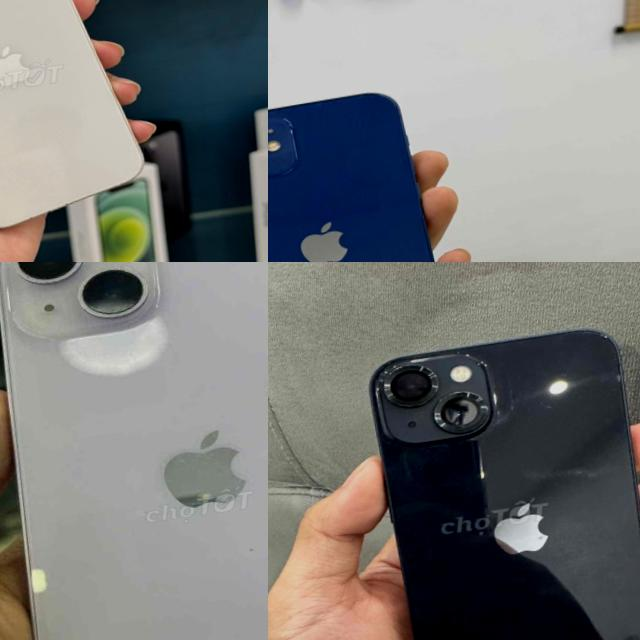gen_12_13: (333, 303, 640, 640), (0, 0, 152, 245), (268, 84, 469, 262)
gen_14: (0, 262, 268, 640)
